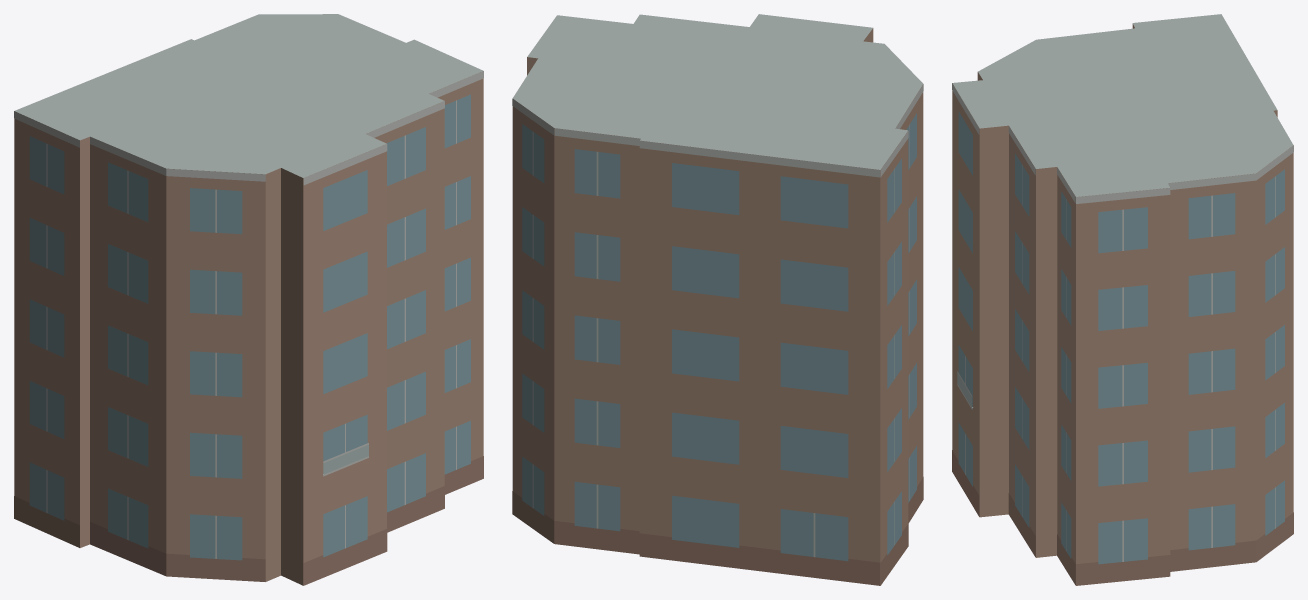
File: survey-upis-32523517.glb
The picture shows the model from 3 angles, left to right: view 1: azimuth 30°, elevation 25°; view 2: azimuth 150°, elevation 25°; view 3: azimuth 270°, elevation 25°; orthographic projection. The views are drawn at different scales.
Parts seen in each view (by area): view 1: survey-upis-32523517.tmp; view 2: survey-upis-32523517.tmp; view 3: survey-upis-32523517.tmp.
Part boxes in pixels (x1,y1,x2,y2): survey-upis-32523517.tmp: [14, 14, 483, 585]; survey-upis-32523517.tmp: [512, 14, 923, 585]; survey-upis-32523517.tmp: [952, 14, 1293, 585].
Size of the model in its own units: 13.49 by 13.35 by 10.63.
